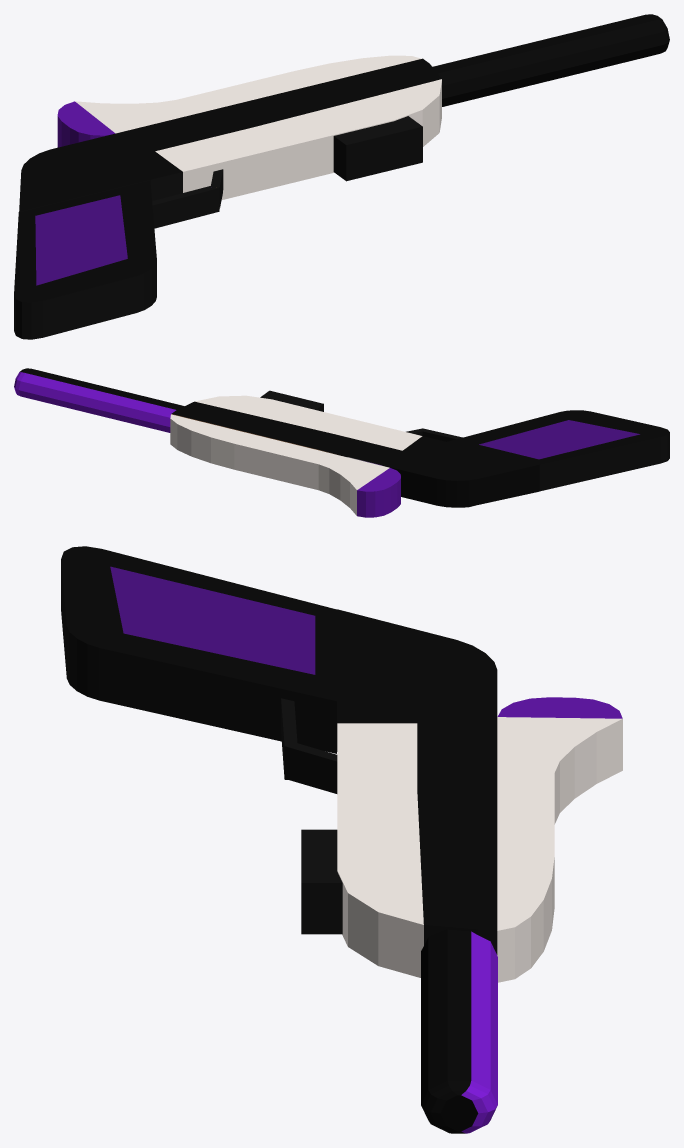
The model's file is GunTry.fbx.
3 views of the same model, one above another, from view 1: azimuth 30°, elevation 25°; view 2: azimuth 150°, elevation 25°; view 3: azimuth 270°, elevation 25° (orthographic). The views are drawn at different scales.
Visible parts, largest first — view 1: Gun; view 2: Gun; view 3: Gun.
Part boxes in pixels (x1,y1,x2,y2): Gun: (14, 14, 669, 339); Gun: (14, 368, 669, 517); Gun: (61, 546, 622, 1133).
Size of the model in its own units: 162 by 7.55 by 71.26.
Materials: 1 (1 with a texture image).
